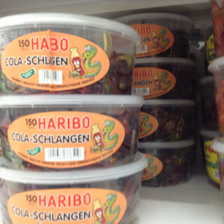candy: (1, 14, 153, 96), (1, 96, 157, 173), (1, 159, 160, 224)
